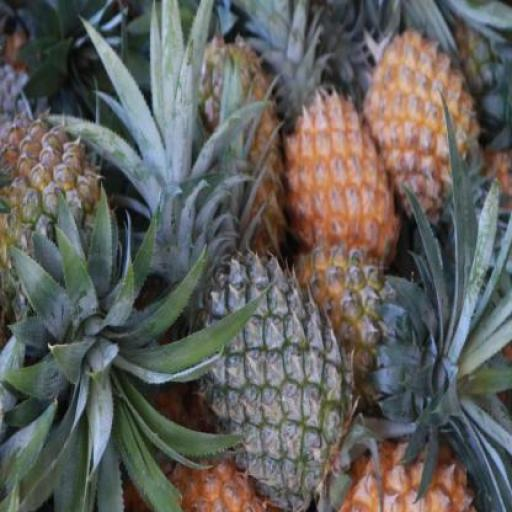------------------------------: (0, 114, 117, 332)
Pineapple - v8 v1: (365, 32, 478, 240), (284, 90, 398, 271)
